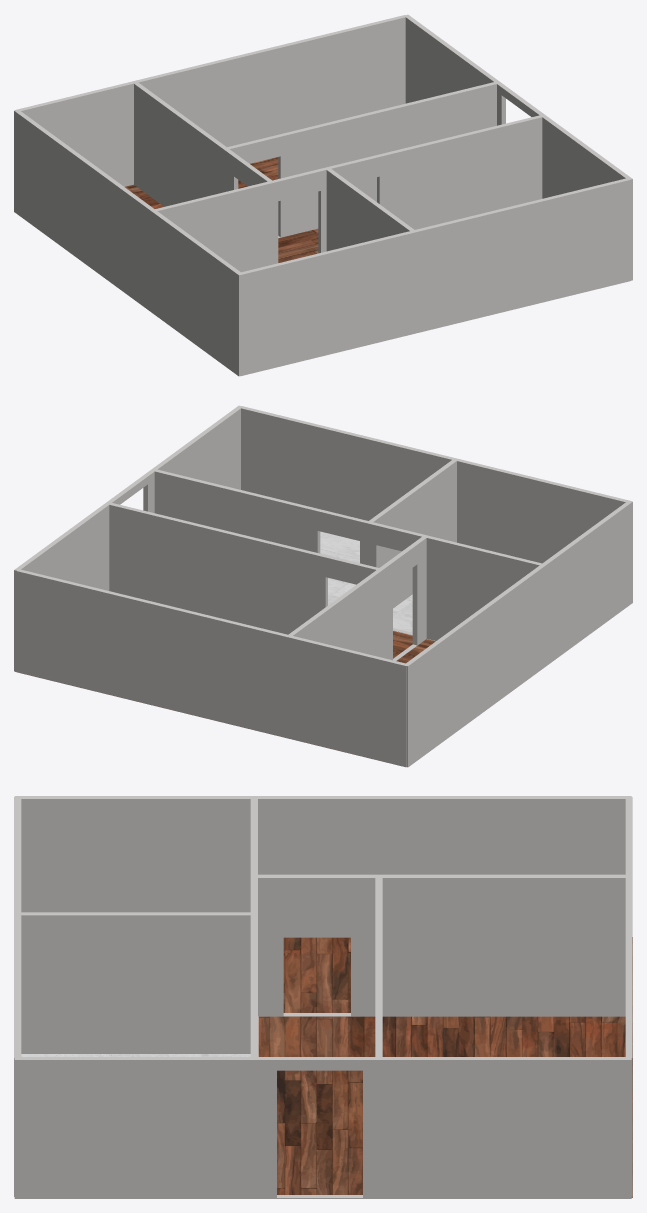
File: house1.glb
3 renders of one model, top to bottom at view 1: azimuth 30°, elevation 25°; view 2: azimuth 150°, elevation 25°; view 3: azimuth 270°, elevation 25°, orthographic. The views are drawn at different scales.
Parts seen in each view (by area): view 1: Cube.006, Cube.044, Cube.032, Cube.057, Cube.050, Cube.064, Cube.038, Cube.077, Cube.070, Cube.079, Cube.001, Cube.040 (+6 smaller); view 2: Cube.041, Cube.002, Cube.032, Cube.047, Cube.038, Cube.053, Cube.073, Cube.064, Cube.070, Cube.078, Cube.001, Cube.040 (+7 smaller); view 3: Cube.033, Cube.027, Cube.059, Cube.065, Cube.079, Cube.040, Cube.001, Cube.034, Cube.028, Cube.060, Cube.046, Cube.052 (+3 smaller).
Part boxes in pixels (x1,y1,x2,y2): Cube.006: [240, 180, 630, 375]; Cube.044: [21, 17, 405, 186]; Cube.032: [14, 111, 238, 376]; Cube.057: [331, 117, 542, 229]; Cube.050: [230, 84, 496, 238]; Cube.064: [134, 84, 267, 206]; Cube.038: [405, 17, 625, 198]; Cube.077: [157, 170, 326, 272]; Cube.070: [326, 170, 409, 251]; Cube.079: [125, 157, 318, 262]; Cube.001: [238, 178, 629, 274]; Cube.040: [16, 15, 406, 110]; Cube.041: [16, 571, 405, 767]; Cube.002: [241, 408, 625, 563]; Cube.032: [408, 502, 632, 767]; Cube.047: [109, 505, 375, 634]; Cube.038: [21, 408, 240, 590]; Cube.053: [154, 471, 369, 552]; Cube.073: [370, 524, 539, 640]; Cube.064: [293, 538, 426, 660]; Cube.070: [373, 461, 456, 608]; Cube.078: [320, 531, 435, 641]; Cube.001: [240, 406, 630, 501]; Cube.040: [17, 569, 406, 665]; Cube.033: [14, 1060, 631, 1198]; Cube.027: [21, 799, 625, 937]; Cube.059: [258, 878, 625, 1016]; Cube.065: [21, 915, 250, 1053]; Cube.079: [258, 937, 632, 1197]; Cube.040: [625, 797, 632, 1057]; Cube.001: [14, 797, 21, 1057]; Cube.034: [14, 1057, 631, 1059]; Cube.028: [14, 796, 631, 798]; Cube.060: [255, 874, 625, 877]; Cube.046: [375, 875, 382, 1056]; Cube.052: [250, 913, 257, 1058].
Bounding box in the file's own units: 27.48 × 6.75 × 27.24.
3 materials, 2 textured.
